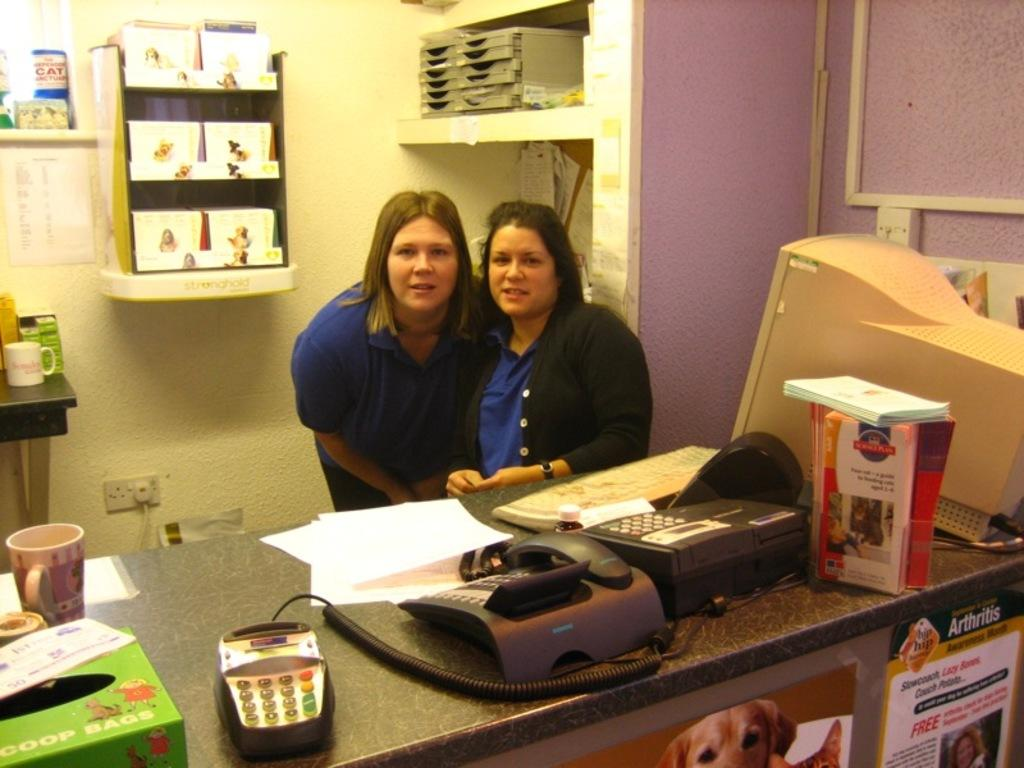Computer-keyboard: (491, 442, 723, 532)
Computer-monitor: (728, 229, 1022, 535)
